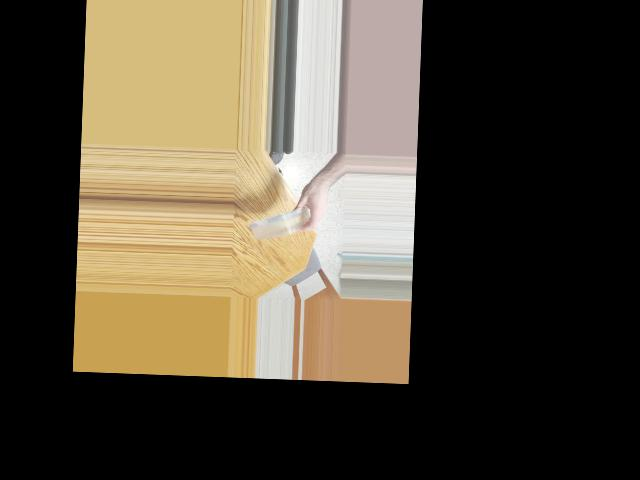cheese: (247, 211, 316, 238)
